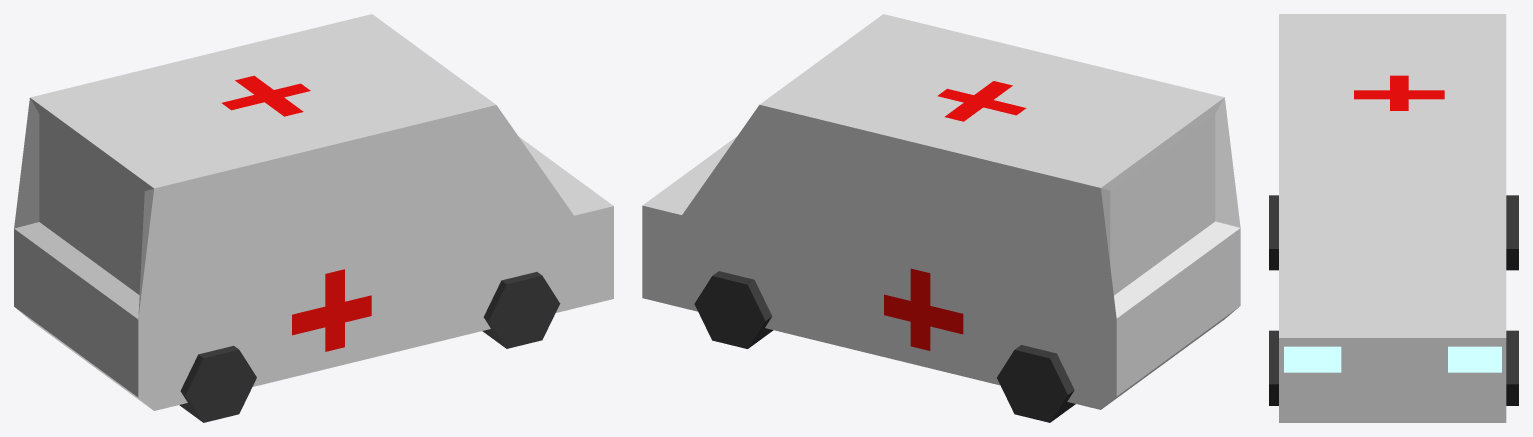
File: med.fbx
3 views of the same model, side by side, from view 1: azimuth 30°, elevation 25°; view 2: azimuth 150°, elevation 25°; view 3: azimuth 270°, elevation 25° (orthographic). The views are drawn at different scales.
Visible parts, largest first — view 1: Cylinder.011; view 2: Cylinder.011; view 3: Cylinder.011.
Boxes of the visible parts, x1,y1,x2,y2 form: Cylinder.011: (14,14,613,422); Cylinder.011: (642,14,1240,422); Cylinder.011: (1269,14,1518,422).
Bounding box in the file's own units: 246 × 120 × 122.
